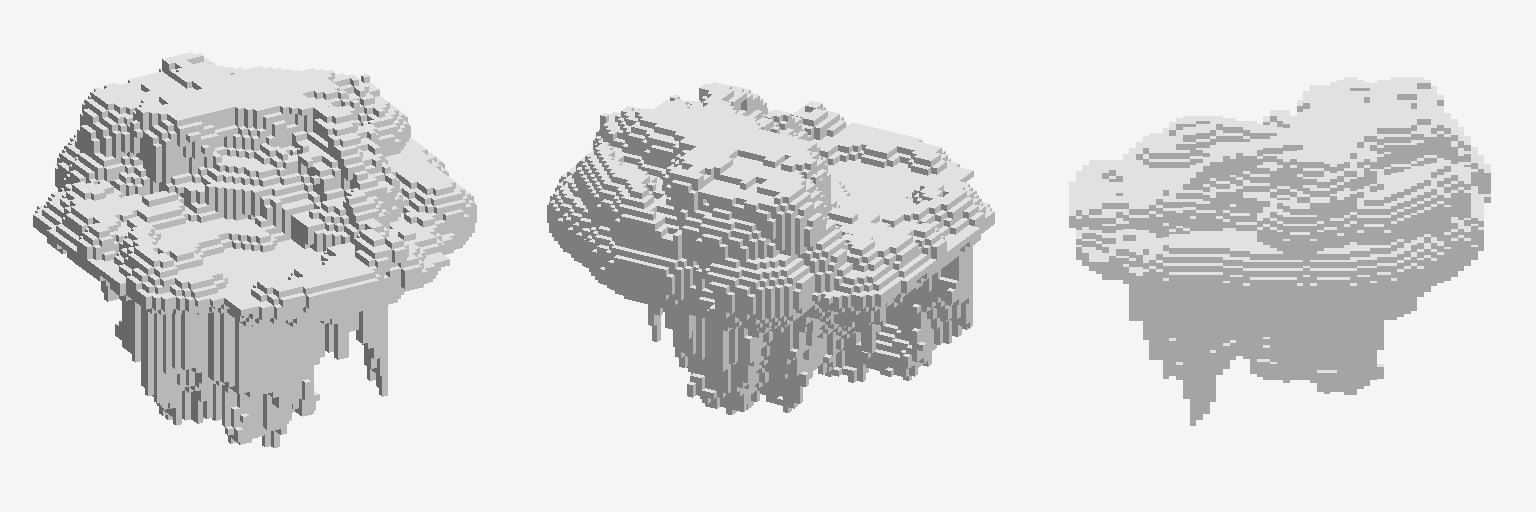
Rendered from PlatformA-1.obj.
The picture shows the model from 3 angles: view 1: azimuth 30°, elevation 25°; view 2: azimuth 150°, elevation 25°; view 3: azimuth 270°, elevation 25°; orthographic projection.
Visible parts, largest first — view 1: object 1; view 2: object 1; view 3: object 1.
Boxes of the visible parts, box(x1,y1,x2,y2) form: object 1: box(33, 52, 476, 447); object 1: box(547, 82, 994, 414); object 1: box(1069, 77, 1490, 425).
Size of the model in its own units: 6 by 4.6 by 6.3.